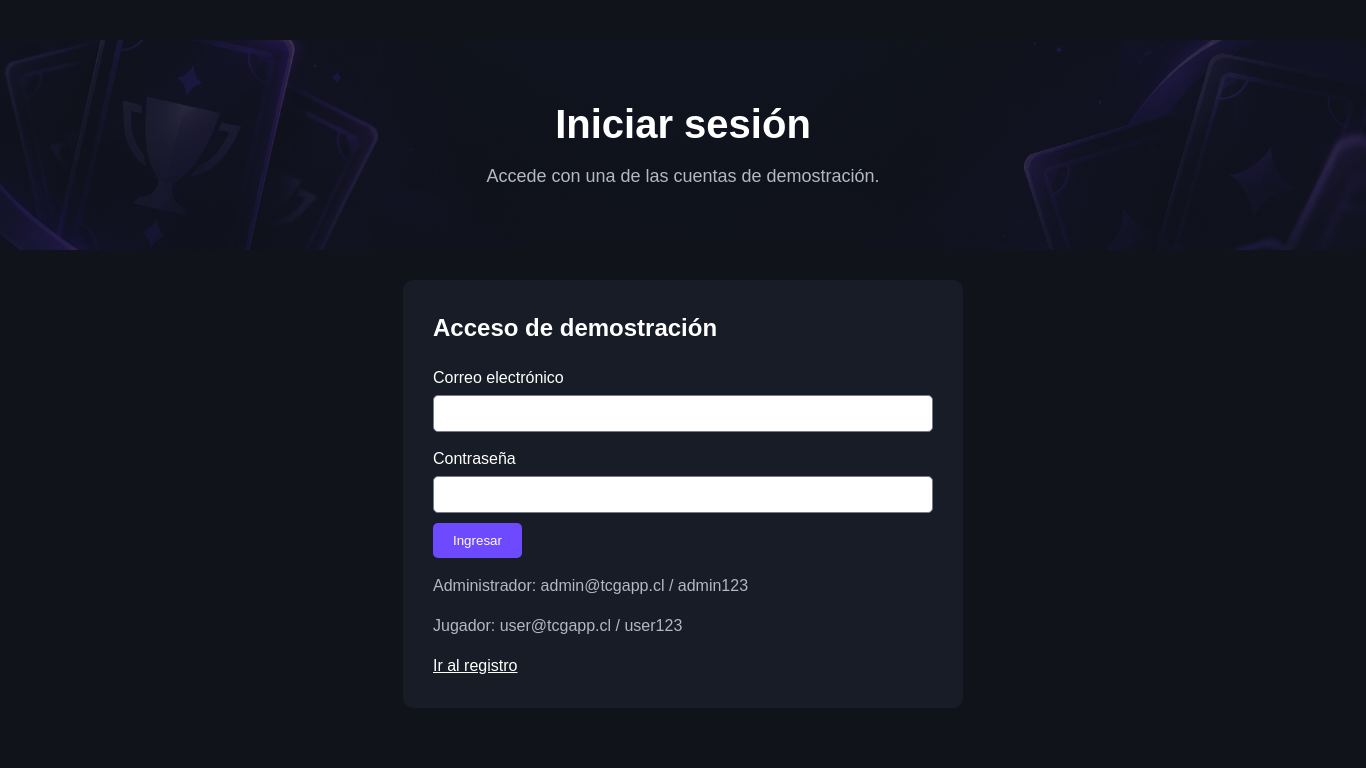
LoginPage › muestra un error si las credenciales no existen
This screenshot has width=1366, height=768.
Type "correo@ejemplo.cl" into the field labelled "Correo electrónico" at (683, 413), box [433, 395, 933, 432]
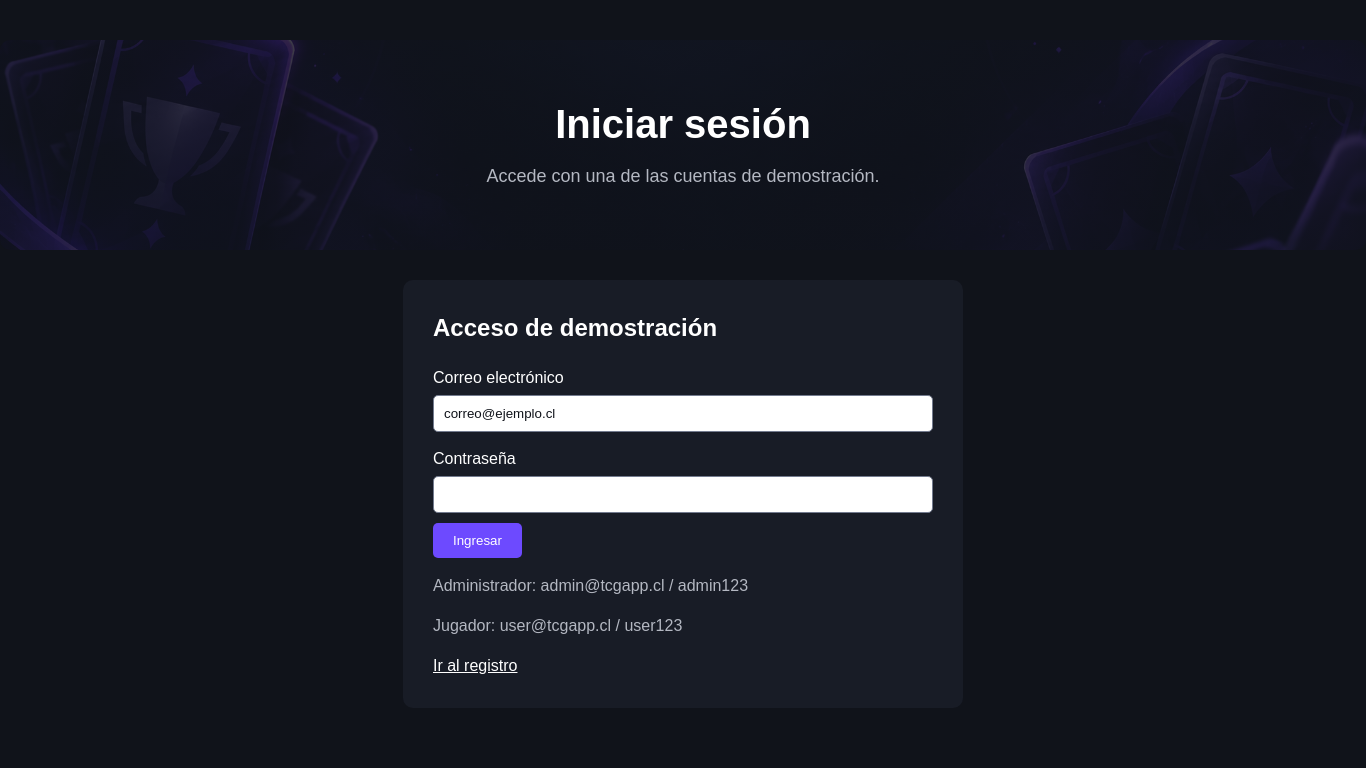
Type "incorrecta" into the password field labelled "Contraseña" at (683, 494), box [433, 476, 933, 513]
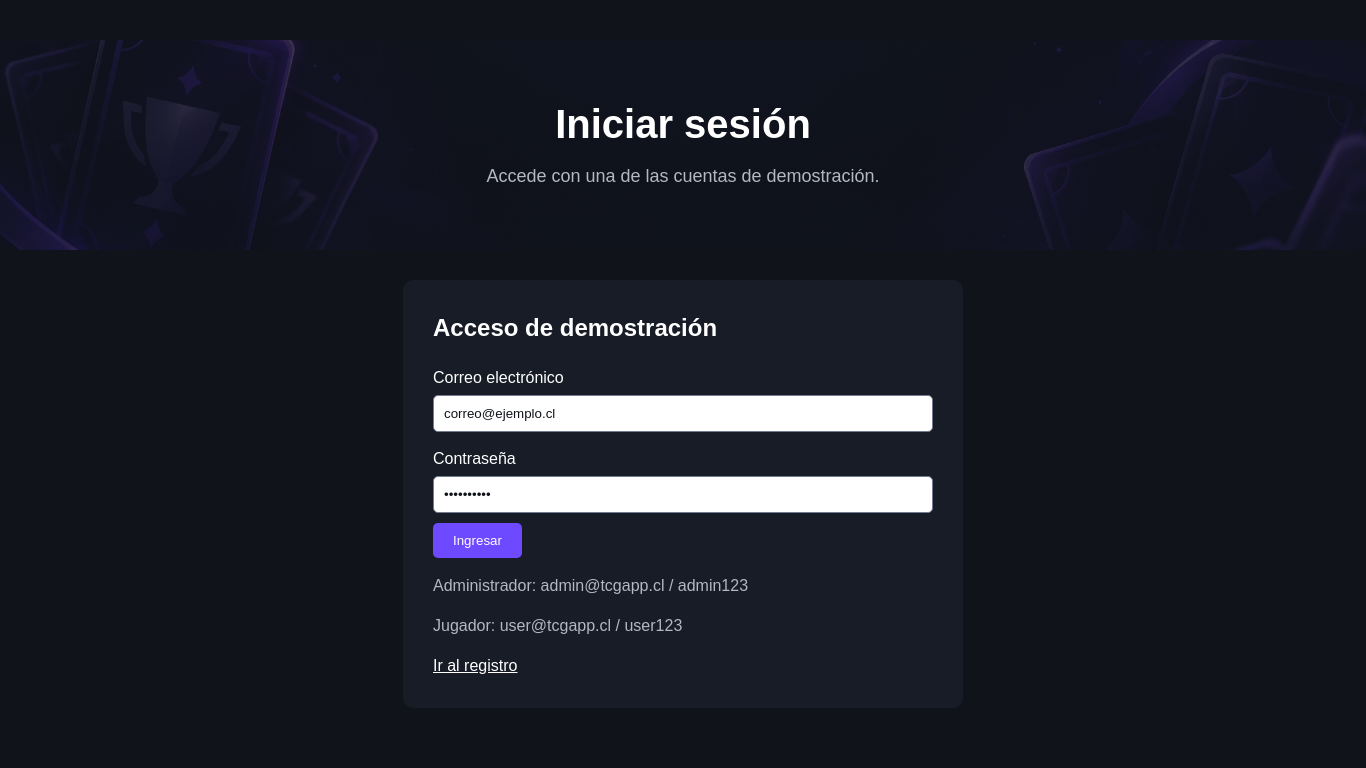
Click the button "Ingresar" at (477, 540), box [433, 523, 522, 558]
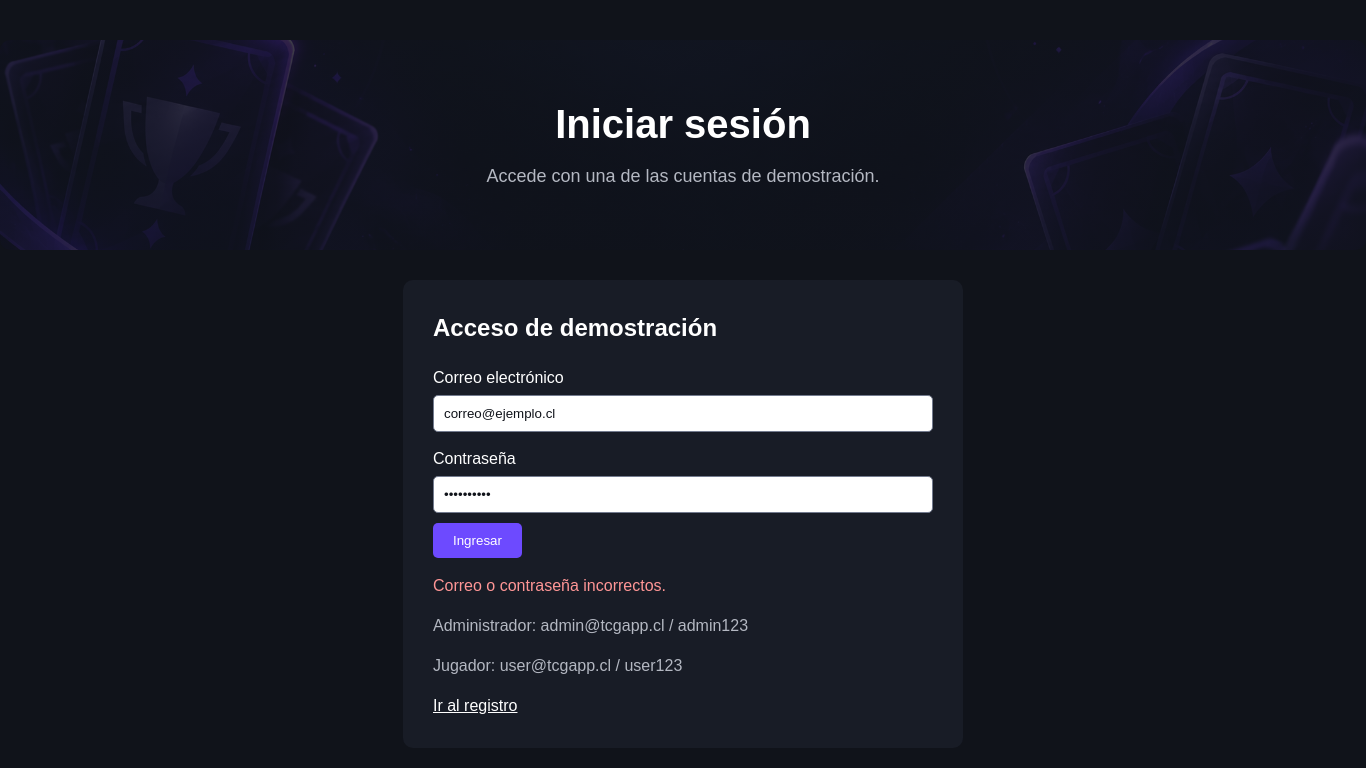
expect the message reads "Correo o contraseña incorrectos.": met, box [433, 577, 666, 594]
